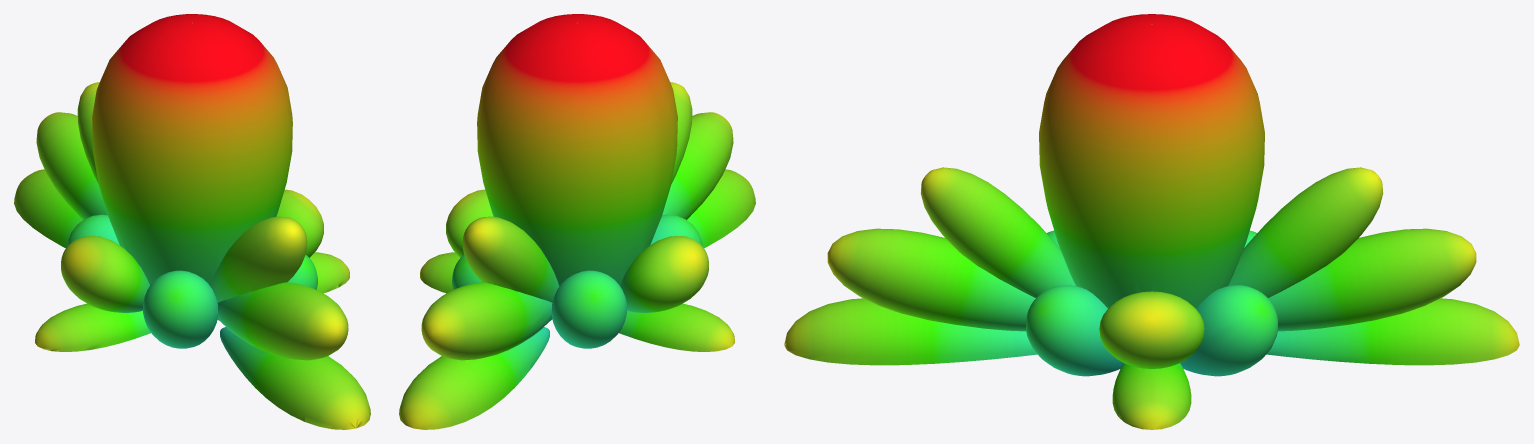
File: zhuban.glb
The picture shows the model from 3 angles, left to right: view 1: azimuth 30°, elevation 25°; view 2: azimuth 150°, elevation 25°; view 3: azimuth 270°, elevation 25°; orthographic projection. The views are drawn at different scales.
Visible parts, largest first — view 1: 球体.001; view 2: 球体.001; view 3: 球体.001.
Part boxes in pixels (box(x1,y1,x2,y2)): 球体.001: box(14, 14, 370, 429); 球体.001: box(399, 14, 755, 429); 球体.001: box(784, 14, 1519, 429).
Bounding box in the file's own units: 2.27 × 2 × 4.16.
21 materials, 21 textured.
